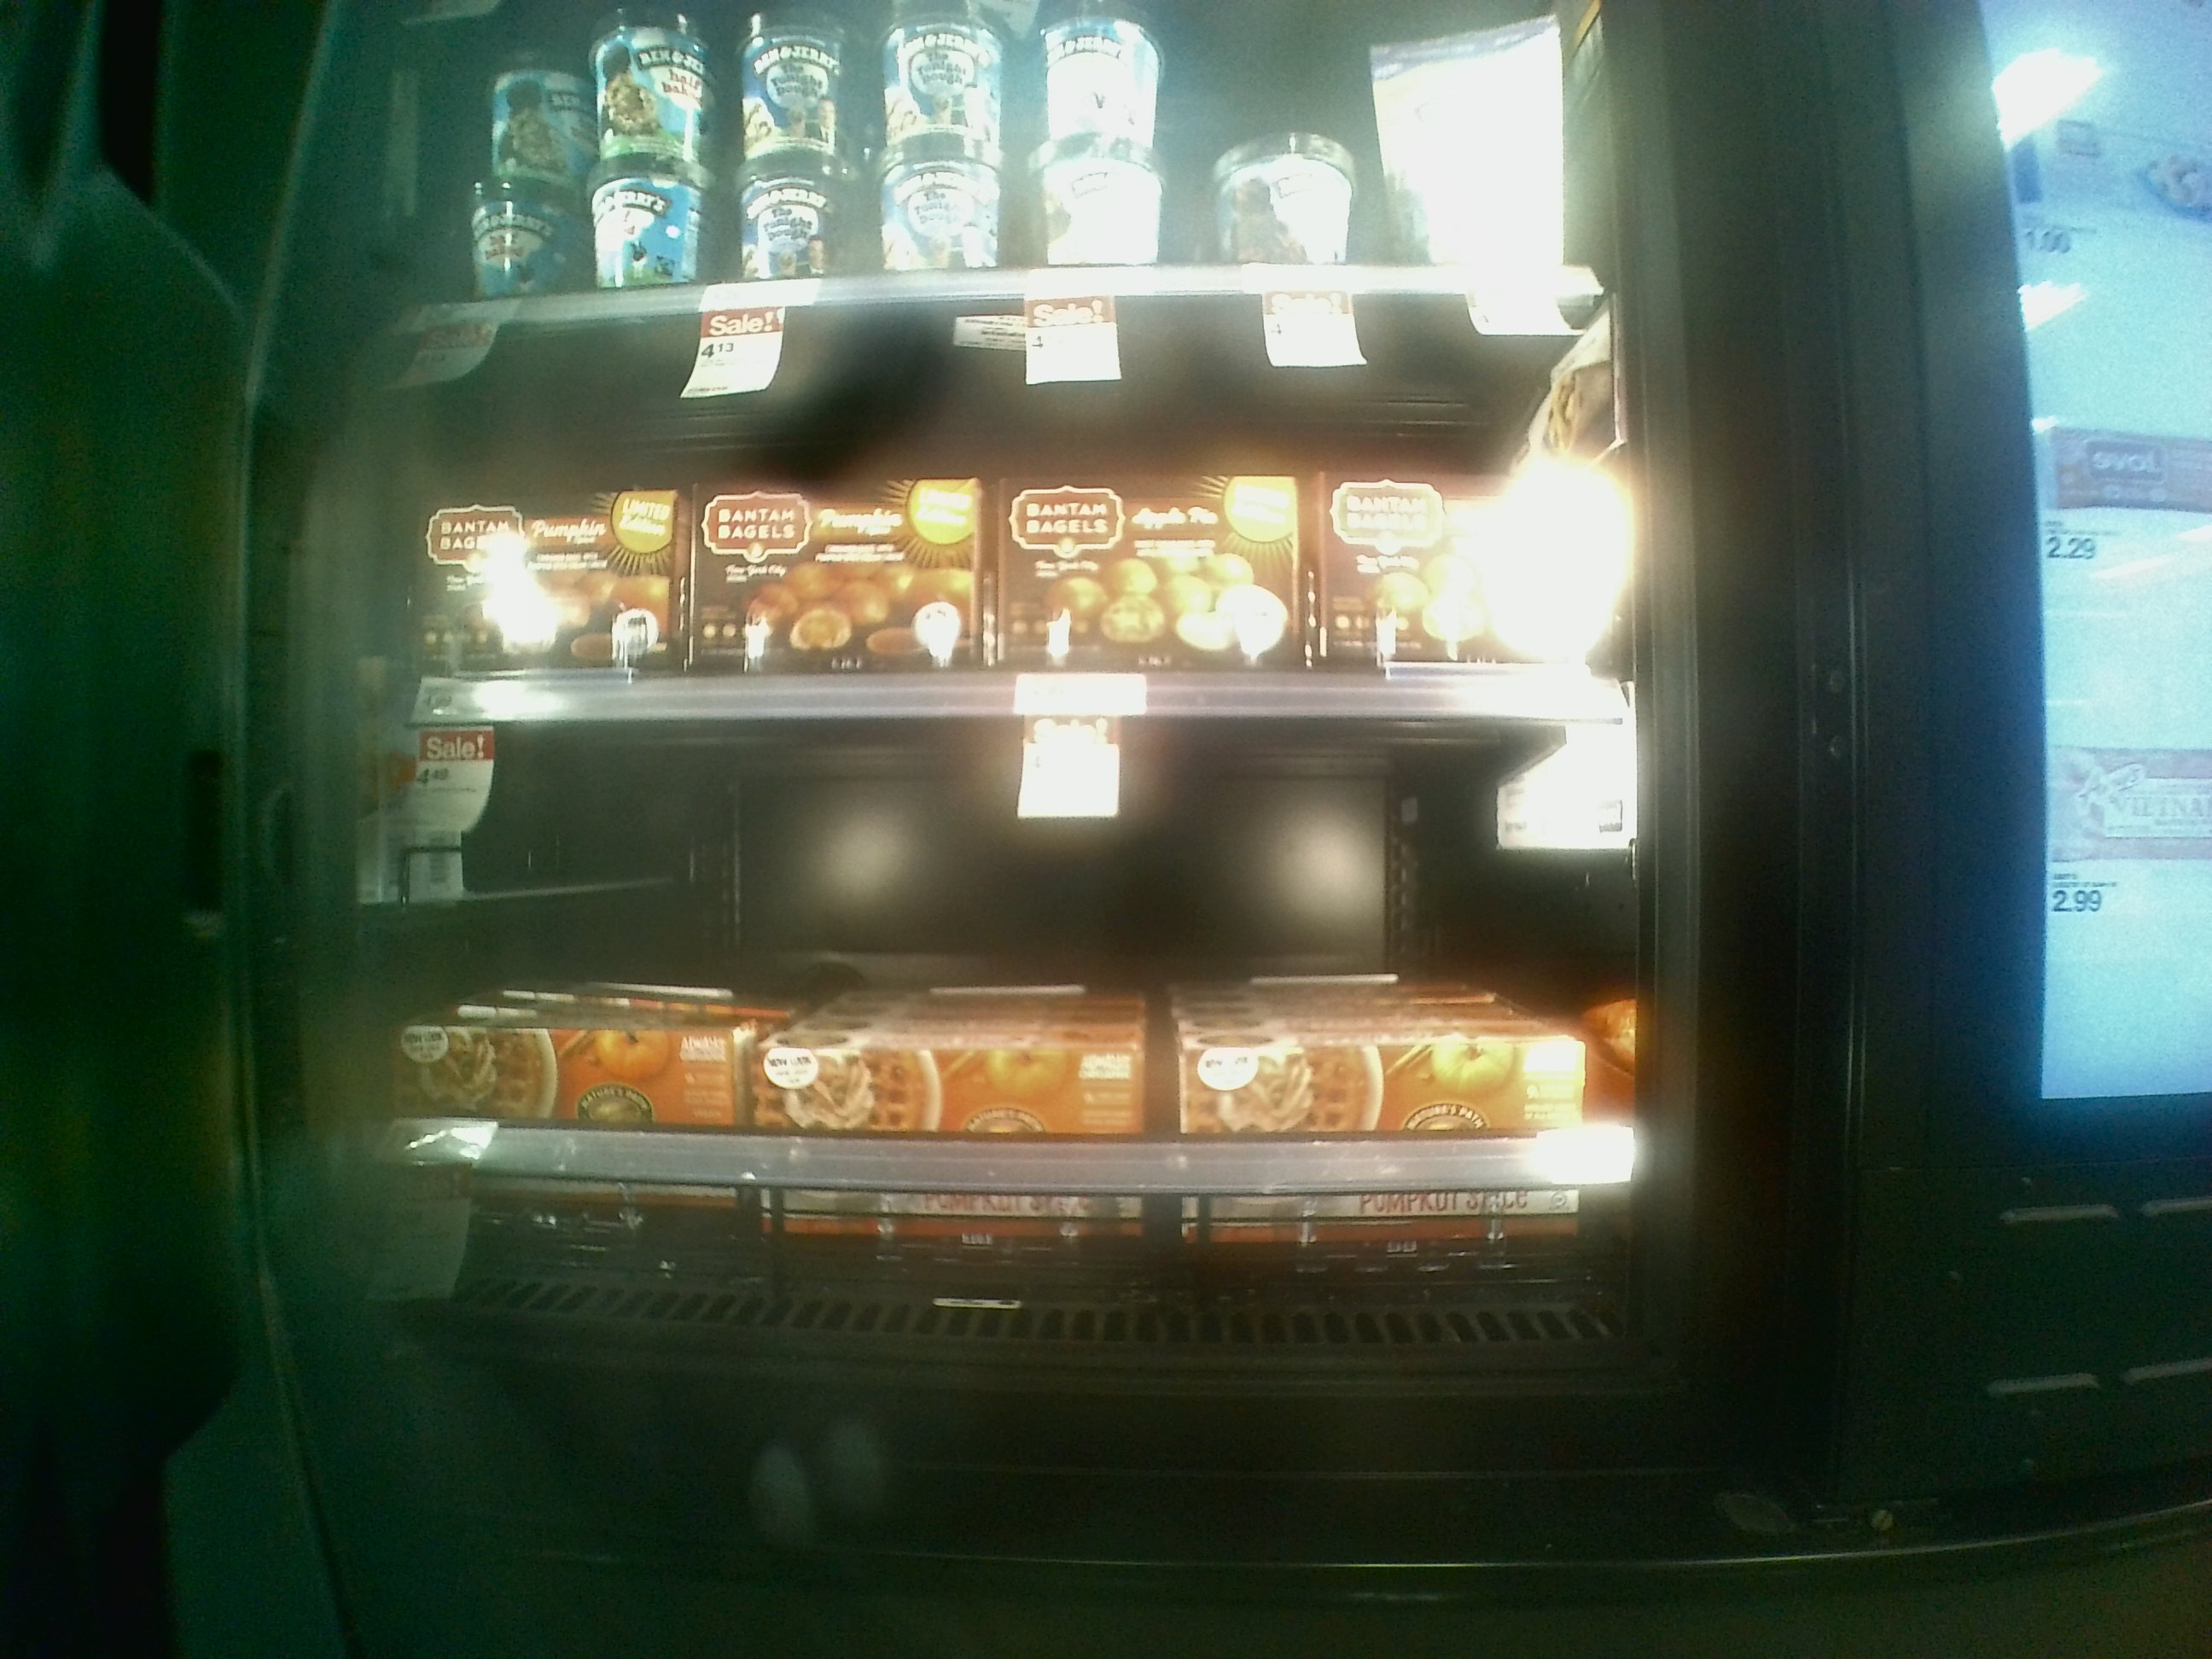shelf: (341, 688, 1679, 1389), (350, 303, 1658, 718)
